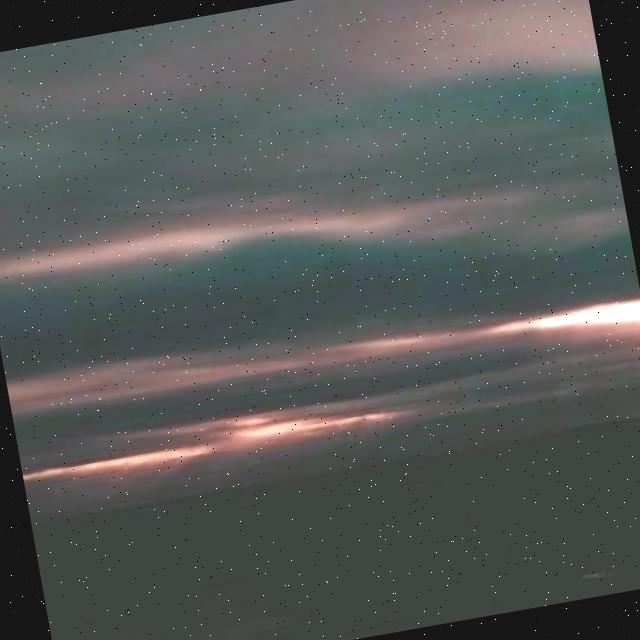Sc: (1, 1, 640, 630)
